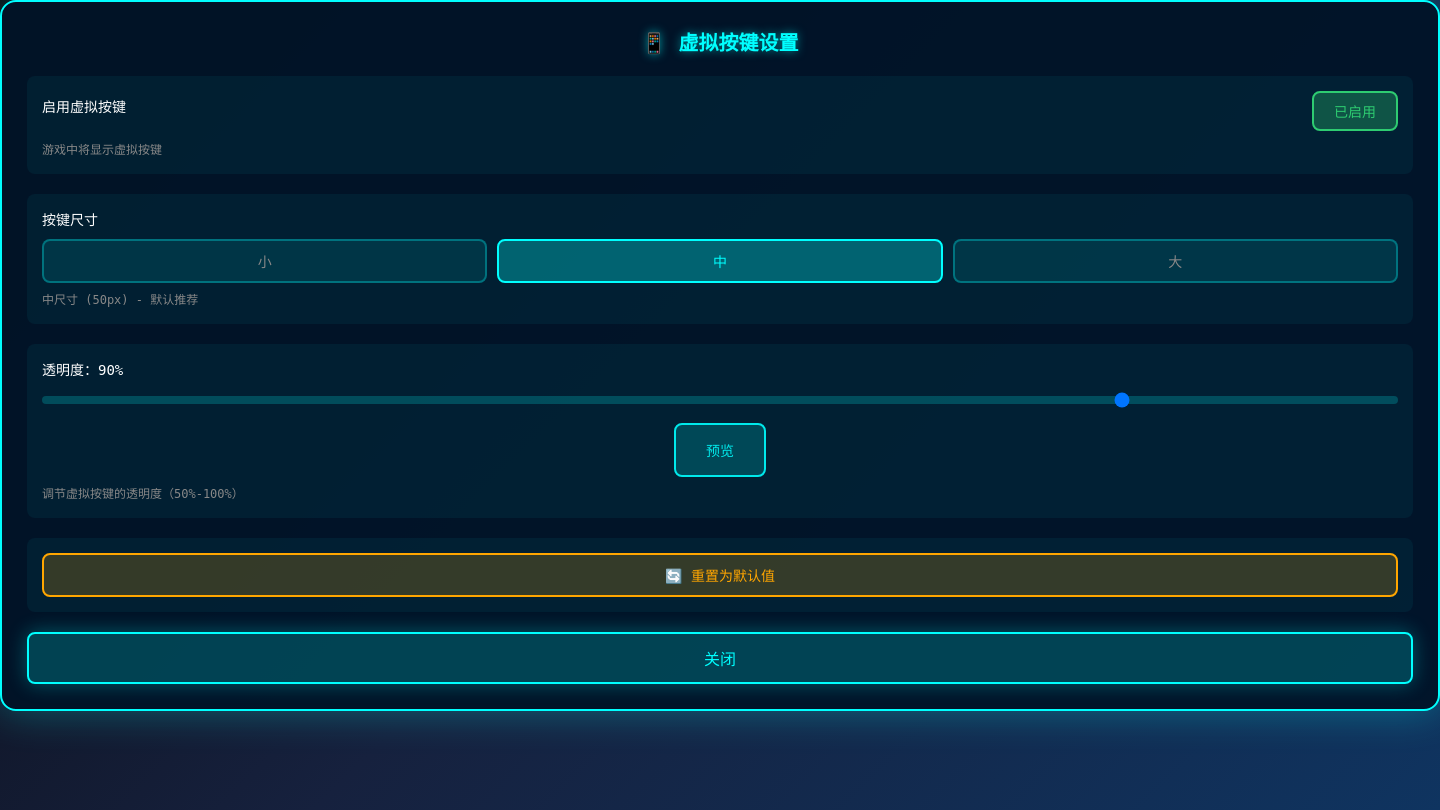
Test: MobileControlsSettingsPanel › 显示小尺寸提示
Click the button "小" at (265, 261), box [42,239,487,283]
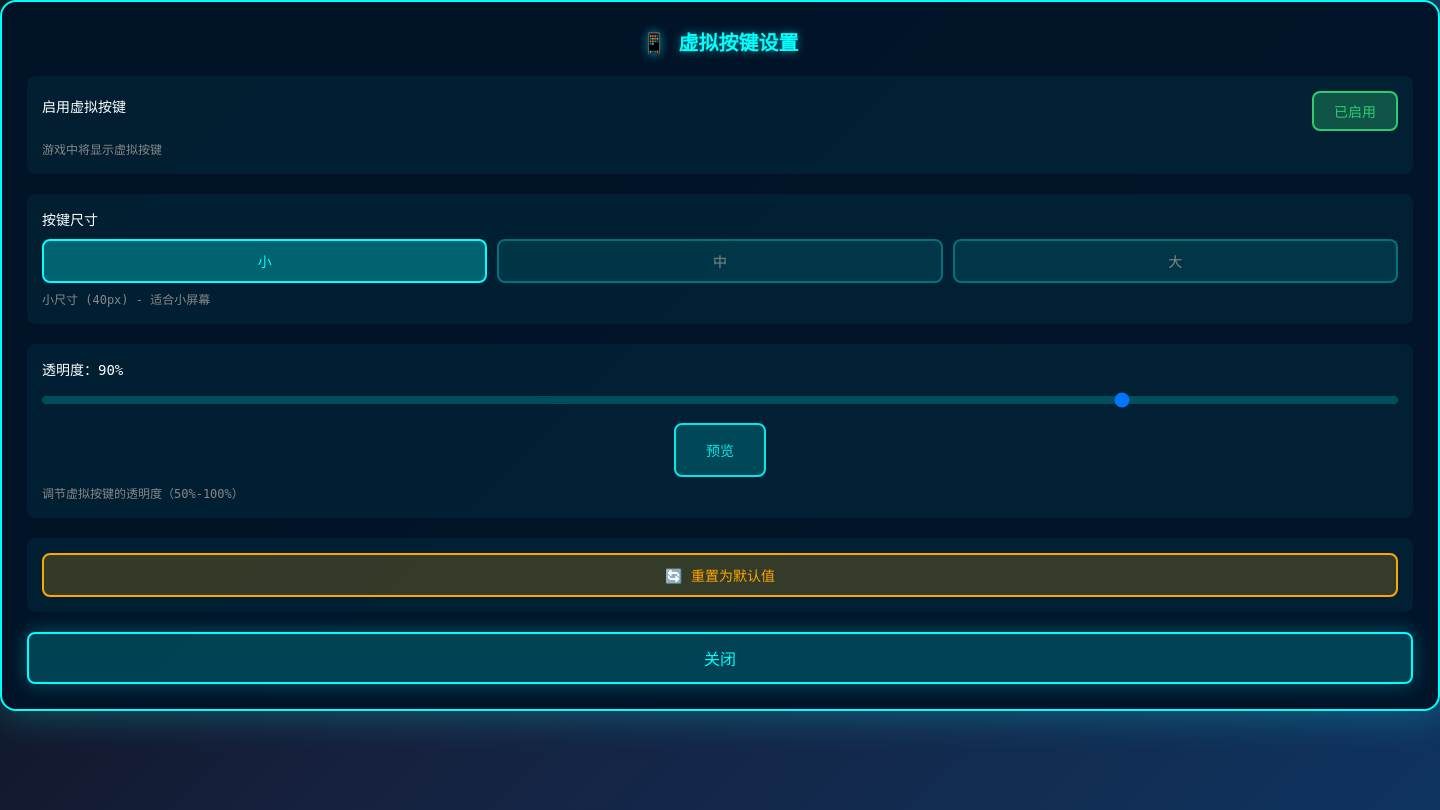
Check: the text "小尺寸 (40px) - 适合小屏幕" is shown, box [42,293,210,307]
